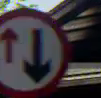Two way: (1, 6, 70, 96)
